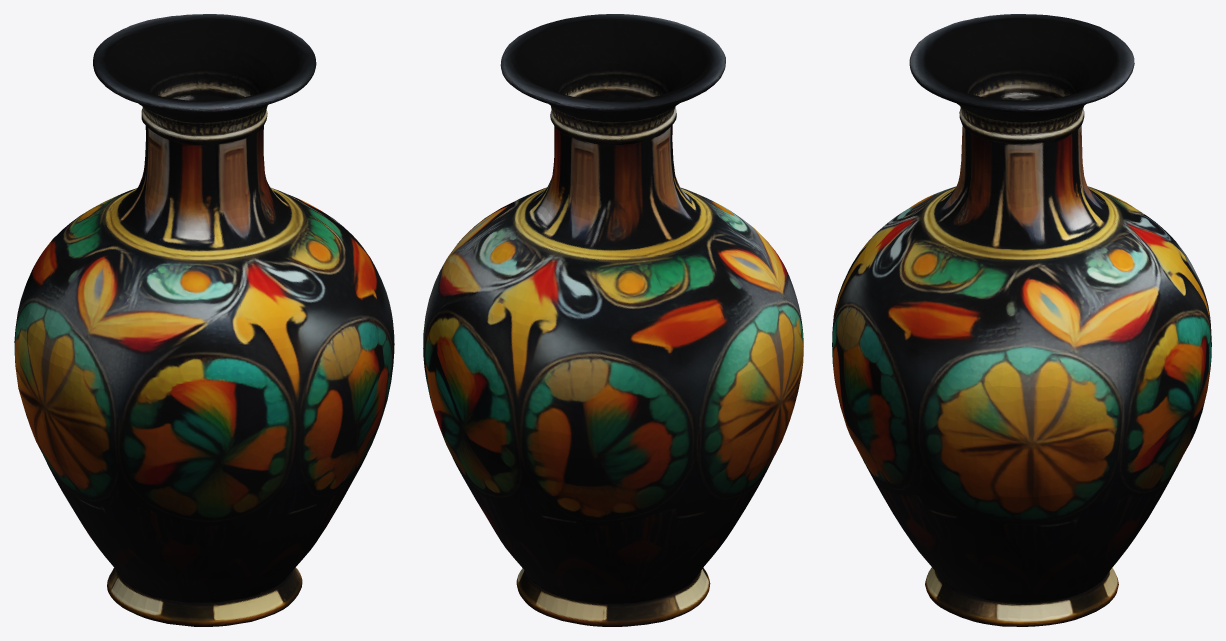
File: ceramic-painted-vase-art-deco.jpeg.glb
3 views of the same model, side by side, from view 1: azimuth 30°, elevation 25°; view 2: azimuth 150°, elevation 25°; view 3: azimuth 270°, elevation 25° (orthographic).
Parts seen in each view (by area): view 1: world; view 2: world; view 3: world.
Boxes of the visible parts, bbox=[...] form: world: bbox=[14, 14, 394, 626]; world: bbox=[423, 14, 803, 626]; world: bbox=[832, 14, 1211, 626].
Size of the model in its own units: 0.6523 by 1 by 0.6536.
Materials: 1 (1 with a texture image).
